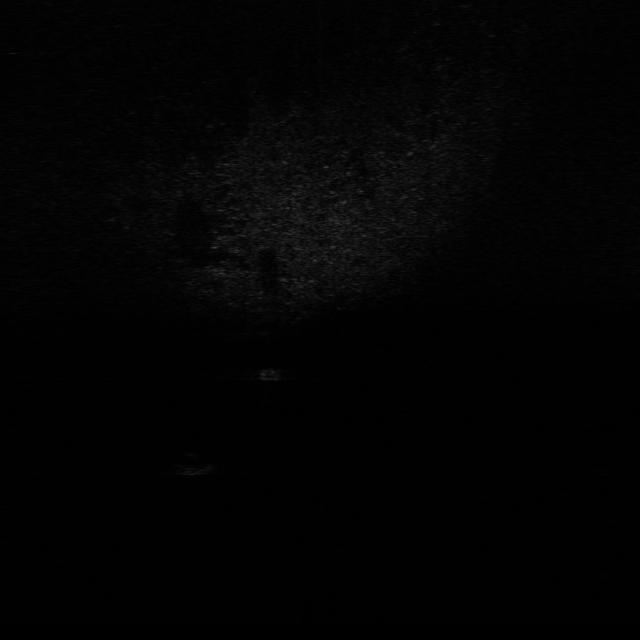ball: (173, 451, 217, 477)
cube: (253, 361, 287, 383)
